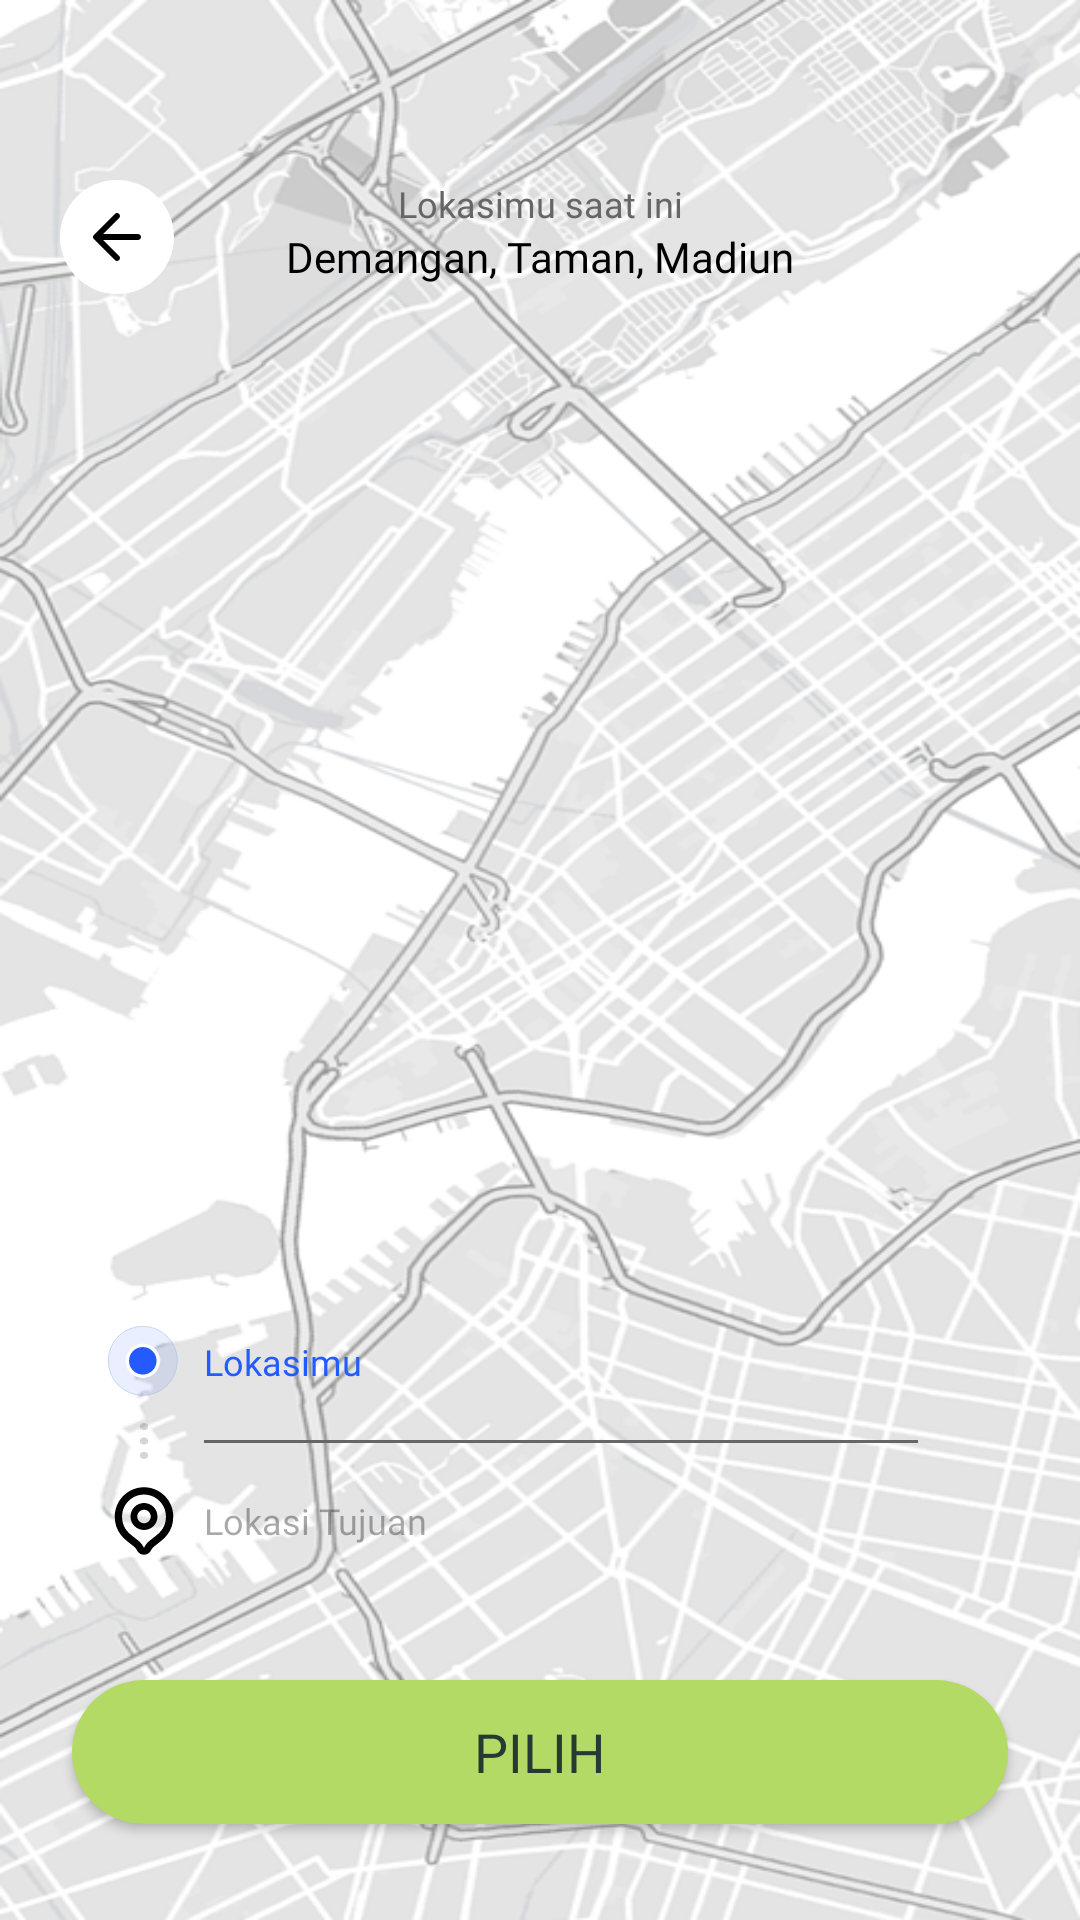

Locate icon controls on the screen. Image size 1080×1920, boxes as [x1=x1, y1=y1, x2=x2, y2=y2].
arrow left: [x1=60, y1=180, x2=174, y2=294]
pin lokasi: [x1=108, y1=1485, x2=180, y2=1557]
